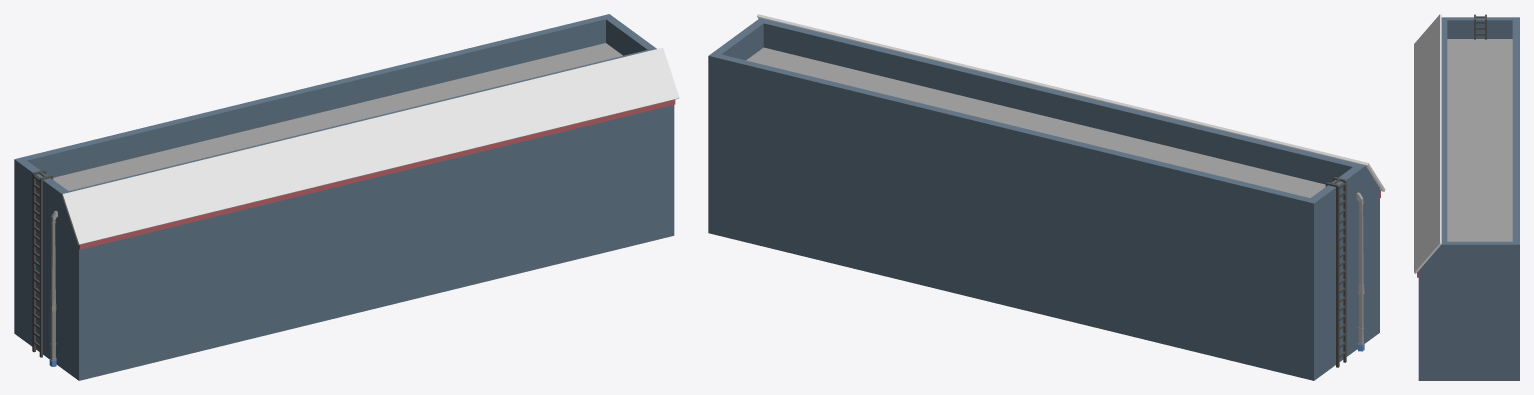
The model's file is BigWall.fbx.
3 renders of one model, left to right at view 1: azimuth 30°, elevation 25°; view 2: azimuth 150°, elevation 25°; view 3: azimuth 270°, elevation 25°, orthographic. The views are drawn at different scales.
Visible parts, largest first — view 1: pCube1, pCube29, pCylinder1; view 2: pCube1, pCube29, pCylinder1; view 3: pCube1, pCube29.
Boxes of the visible parts, bbox=[...] form: pCube1: bbox=[14, 14, 679, 380]; pCube29: bbox=[32, 170, 53, 357]; pCylinder1: bbox=[49, 211, 57, 366]; pCube1: bbox=[708, 14, 1385, 380]; pCube29: bbox=[1325, 177, 1346, 367]; pCylinder1: bbox=[1356, 192, 1364, 351]; pCube1: bbox=[1414, 14, 1519, 380]; pCube29: bbox=[1474, 14, 1486, 39].
Size of the model in its own units: 64.61 by 18.35 by 12.53.
